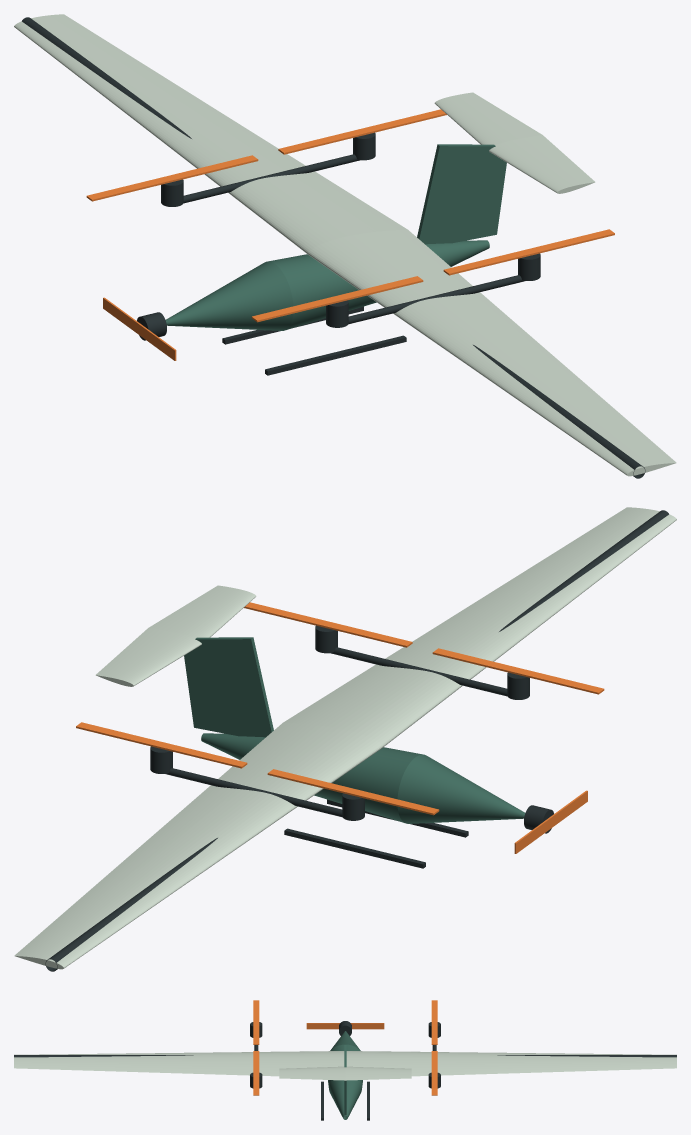
3 renders of one model, top to bottom at view 1: azimuth 30°, elevation 25°; view 2: azimuth 150°, elevation 25°; view 3: azimuth 270°, elevation 25°, orthographic. The views are drawn at different scales.
Parts seen in each view (by area): view 1: wing-1, wing1, fuselage, fin, tail-1, tail1, wing_spar, prop_-1_230.0, prop_1_230.0, prop_-1_700.0, prop_1_700.0, boom-1 (+3 smaller); view 2: wing1, wing-1, fuselage, fin, tail1, tail-1, wing_spar, prop_-1_230.0, prop_1_230.0, prop_1_700.0, prop_-1_700.0, boom1 (+3 smaller); view 3: wing-1, wing1, fuselage, tail-1, tail1, wing_spar, cruise_prop, prop_-1_230.0, prop_-1_700.0, prop_1_230.0, prop_1_700.0.
Boxes of the visible parts, left/top/right/bottom form: wing-1: left=308, top=229, right=676, bottom=476; wing1: left=14, top=14, right=407, bottom=254; fuselage: left=165, top=240, right=489, bottom=330; fin: left=417, top=144, right=506, bottom=244; tail-1: left=489, top=135, right=595, bottom=193; tail1: left=434, top=92, right=542, bottom=145; wing_spar: left=22, top=17, right=645, bottom=478; prop_-1_230.0: left=251, top=276, right=423, bottom=322; prop_1_230.0: left=86, top=155, right=258, bottom=201; prop_-1_700.0: left=443, top=229, right=614, bottom=275; prop_1_700.0: left=278, top=109, right=446, bottom=154; boom-1: left=348, top=275, right=524, bottom=324; wing1: left=14, top=722, right=382, bottom=969; wing-1: left=283, top=507, right=676, bottom=747; fuselage: left=201, top=733, right=525, bottom=823; fin: left=184, top=637, right=273, bottom=737; tail1: left=95, top=628, right=201, bottom=686; tail-1: left=148, top=585, right=256, bottom=638; wing_spar: left=45, top=510, right=668, bottom=971; prop_-1_230.0: left=432, top=648, right=604, bottom=694; prop_1_230.0: left=267, top=769, right=439, bottom=815; prop_1_700.0: left=76, top=722, right=247, bottom=768; prop_-1_700.0: left=244, top=602, right=412, bottom=647; boom1: left=166, top=768, right=342, bottom=817; wing-1: left=14, top=1051, right=344, bottom=1076; wing1: left=346, top=1051, right=676, bottom=1076; fuselage: left=328, top=1031, right=362, bottom=1119; tail-1: left=279, top=1066, right=345, bottom=1080; tail1: left=345, top=1066, right=411, bottom=1080; wing_spar: left=14, top=1055, right=676, bottom=1057; cruise_prop: left=306, top=1023, right=384, bottom=1029; prop_-1_230.0: left=253, top=1000, right=259, bottom=1044; prop_-1_700.0: left=253, top=1051, right=259, bottom=1095; prop_1_230.0: left=431, top=1000, right=437, bottom=1044; prop_1_700.0: left=431, top=1051, right=437, bottom=1095.
Size of the model in its own units: 989 by 390 by 2600.
